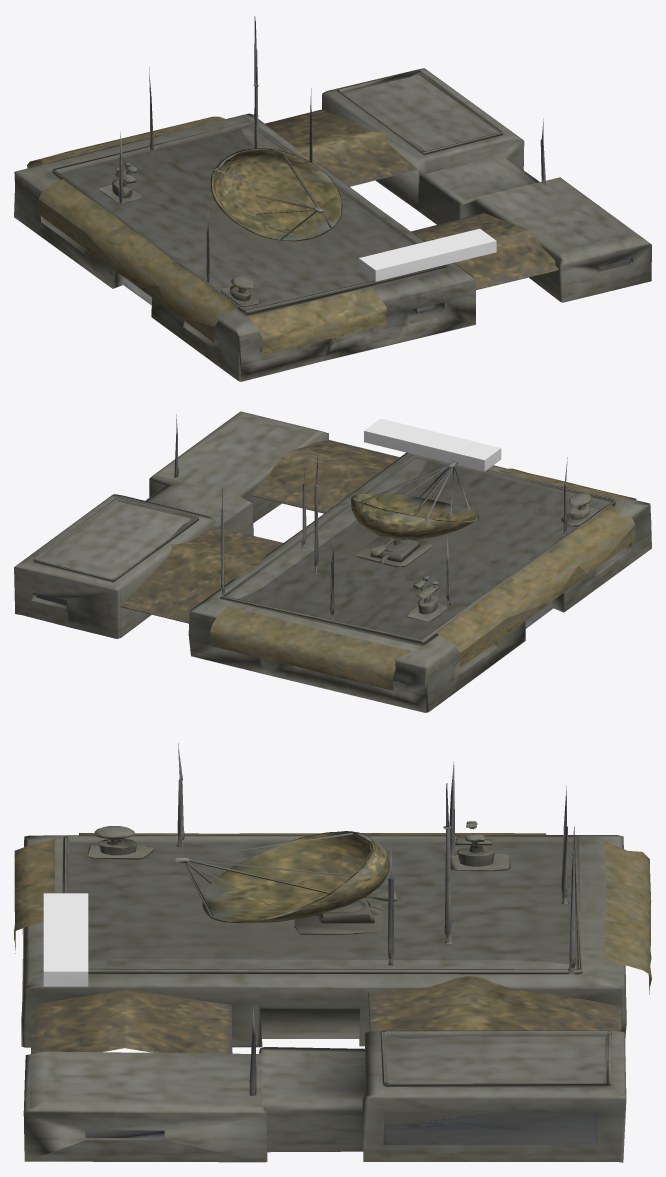
The picture shows the model from 3 angles, top to bottom: view 1: azimuth 30°, elevation 25°; view 2: azimuth 150°, elevation 25°; view 3: azimuth 270°, elevation 25°; orthographic projection. The views are drawn at different scales.
Visible parts, largest first — view 1: cn-hq; view 2: cn-hq; view 3: cn-hq.
Boxes of the visible parts, x1,y1,x2,y2 form: cn-hq: [14, 16, 651, 381]; cn-hq: [14, 411, 651, 712]; cn-hq: [14, 743, 651, 1162].
Bounding box in the file's own units: 3.44 × 1.35 × 3.44.
2 materials, 1 textured.
